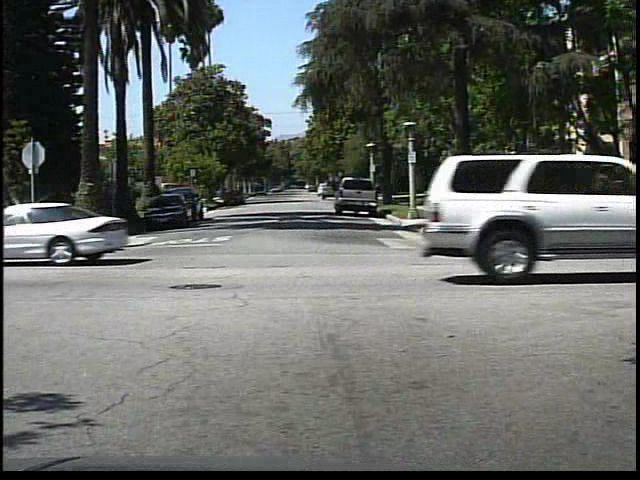person: (553, 167, 583, 236)
